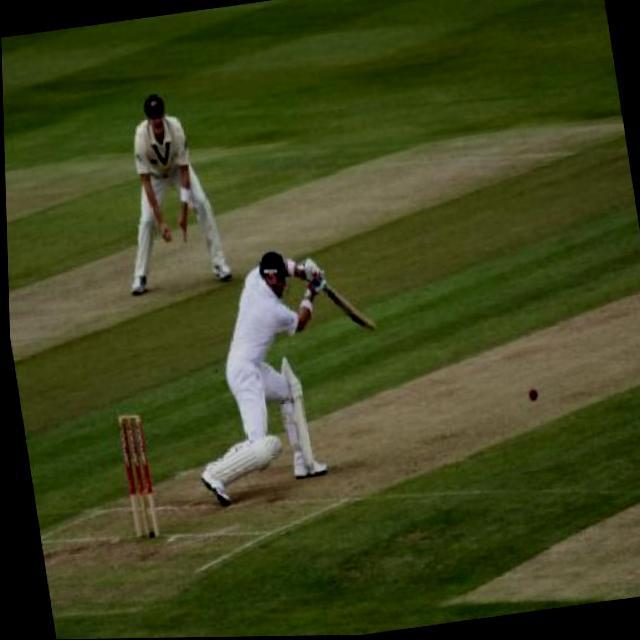-: (507, 378, 556, 436)
